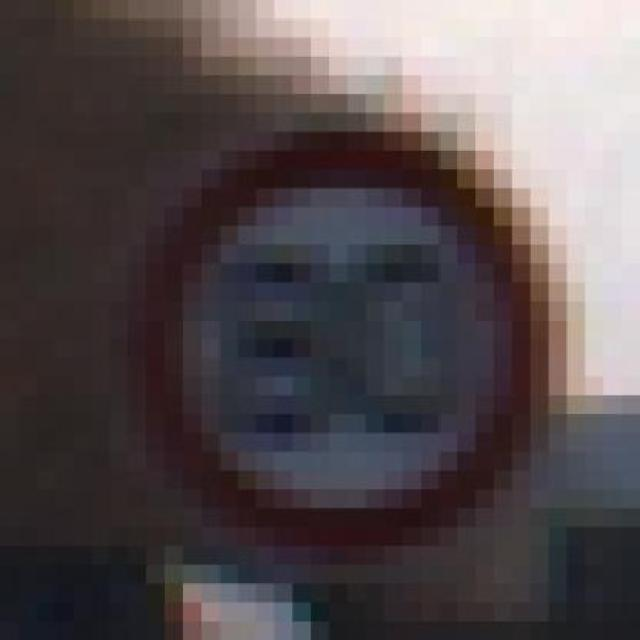forb_speed_over_80: (134, 126, 543, 546)
